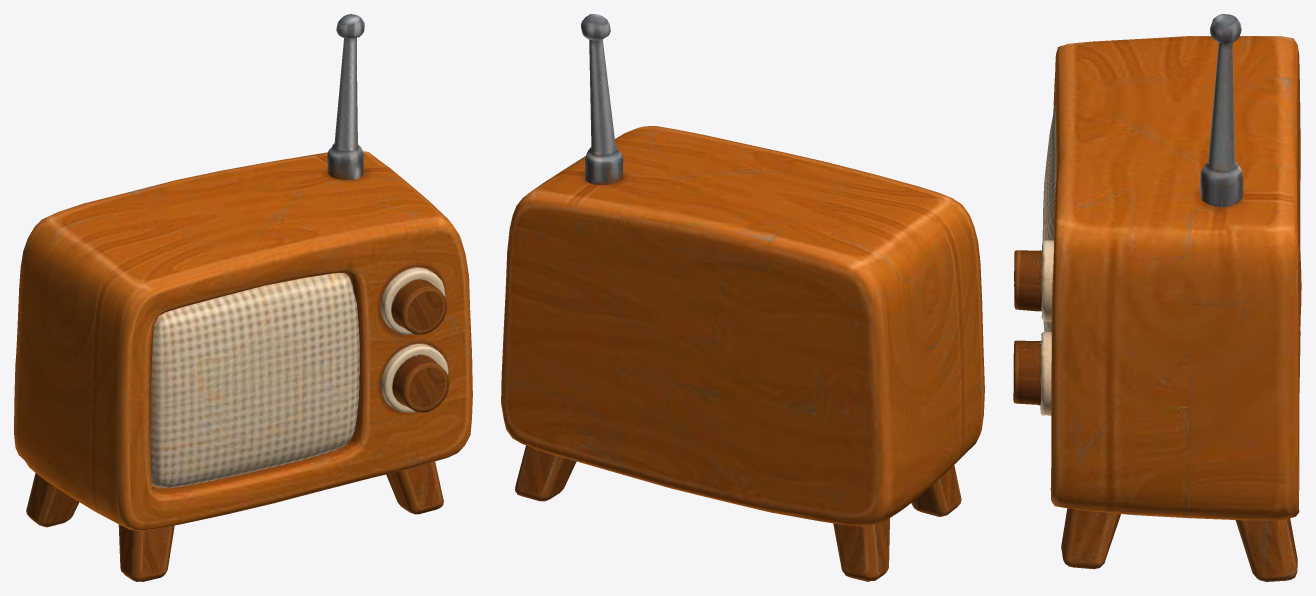
Rendered from radio.glb.
3 renders of one model, left to right at view 1: azimuth 30°, elevation 25°; view 2: azimuth 150°, elevation 25°; view 3: azimuth 270°, elevation 25°, orthographic. The views are drawn at different scales.
Size of the model in its own units: 0.8663 by 1 by 0.485.
1 material, 1 textured.
